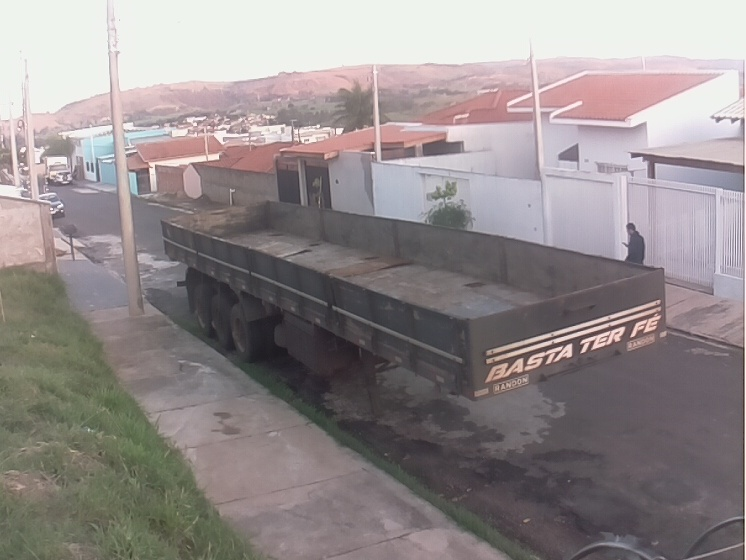person: (620, 220, 648, 266)
